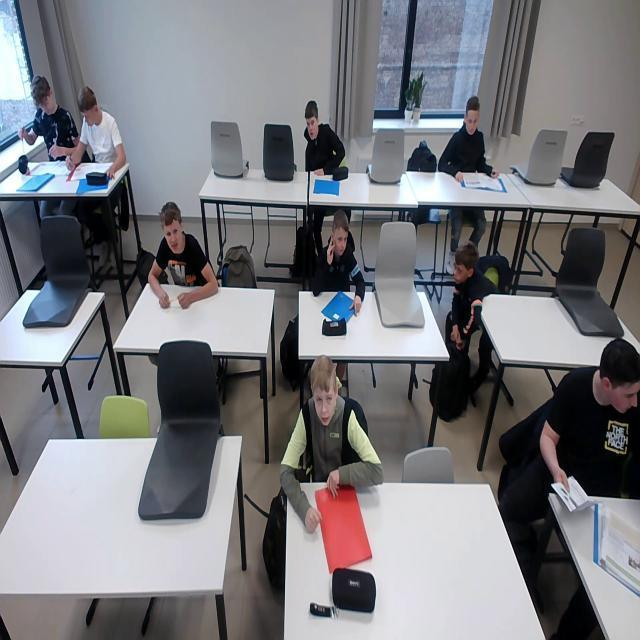Looking away: (602, 374, 640, 418), (452, 259, 473, 287), (308, 118, 318, 141)
Looking forward: (314, 391, 338, 426), (163, 222, 183, 255), (466, 110, 480, 134)
Phone use: (310, 206, 368, 290)
Reading-writing: (14, 77, 80, 176), (64, 86, 128, 182)
